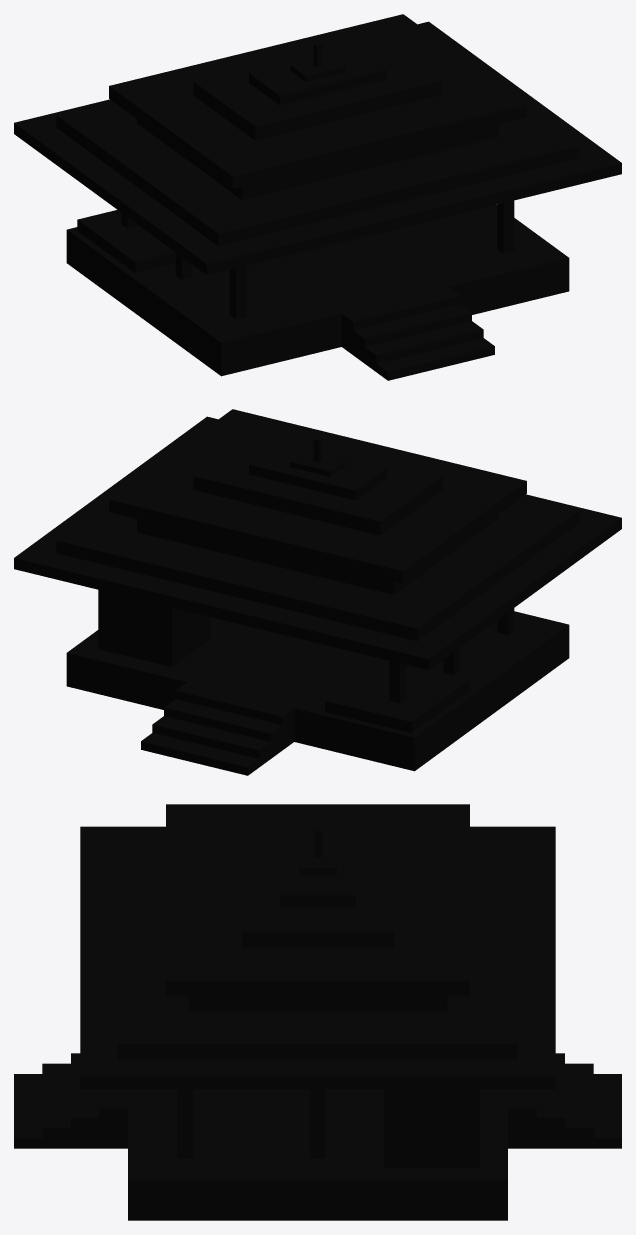
Rendered from far_57-B8H0wOm3.glb.
The picture shows the model from 3 angles, top to bottom: view 1: azimuth 30°, elevation 25°; view 2: azimuth 150°, elevation 25°; view 3: azimuth 270°, elevation 25°; orthographic projection. The views are drawn at different scales.
Visible parts, largest first — view 1: farBaked_57; view 2: farBaked_57; view 3: farBaked_57.
Part boxes in pixels (x1=…): farBaked_57: x1=14, y1=14, x2=621, y2=380; farBaked_57: x1=14, y1=409, x2=621, y2=775; farBaked_57: x1=14, y1=804, x2=621, y2=1220.
Size of the model in its own units: 15.5 by 8.33 by 16.
Materials: 1 (1 with a texture image).
